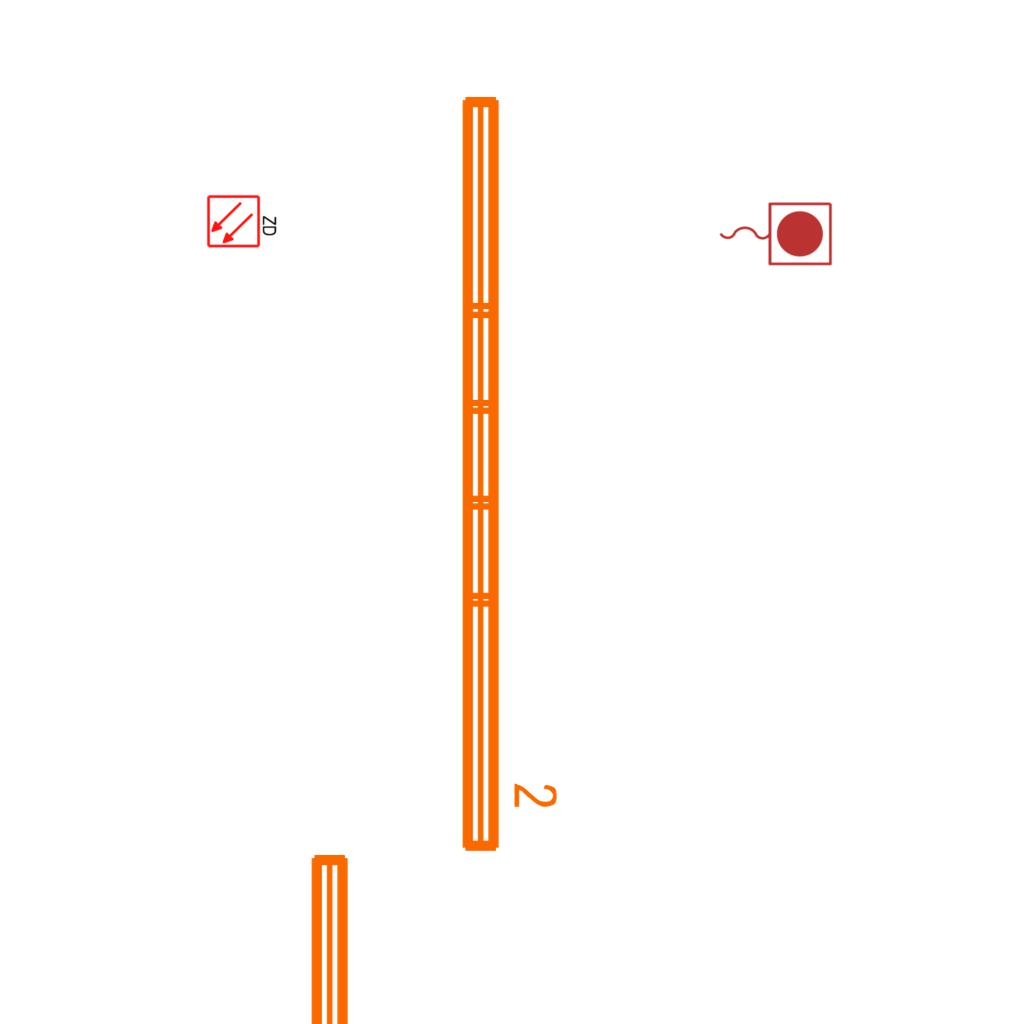Ambulanz_Pendelleuchte_LED: (450, 86, 562, 860), (299, 844, 411, 1024)
ZD_Melder_in_Zwischendecke_mit_Revisionsoeffnung_mind_40_x_40_cm: (206, 192, 280, 249)
Zugtaster: (714, 197, 836, 269)
